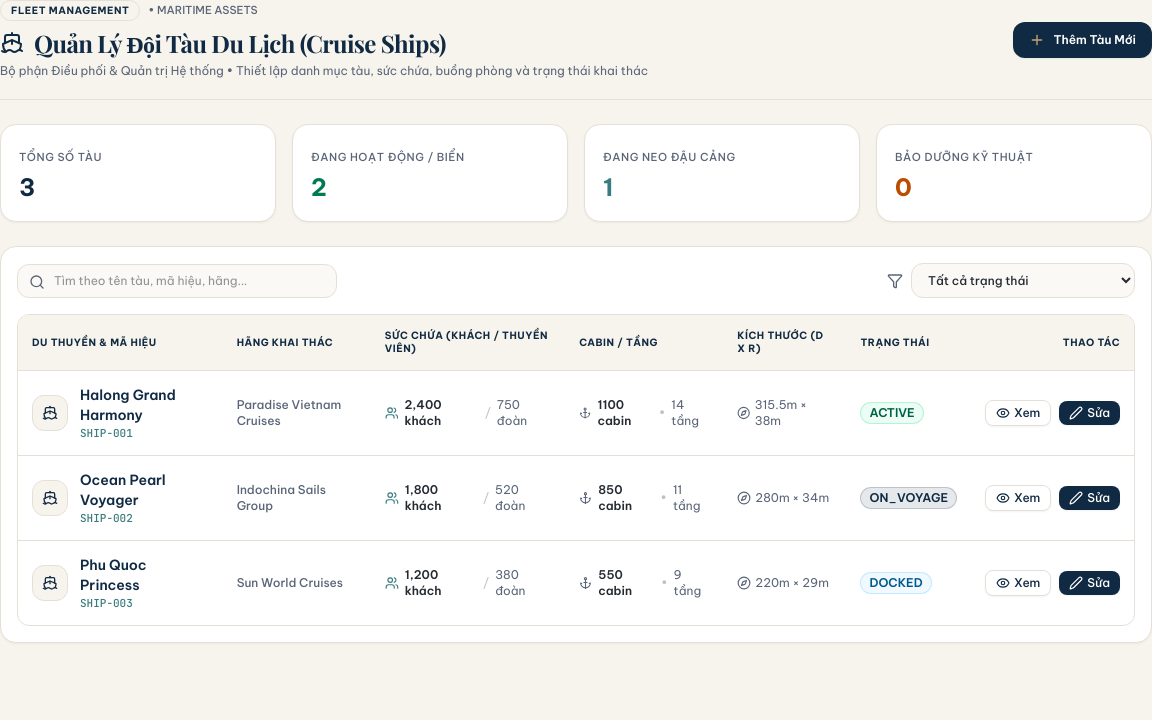
Scenario: ShipsPage Component Tests › edits a ship and allows closing modal with cancel button
Expected: the text "Halong Grand Harmony" is shown, [80,386,176,424]
Click the button with aria-label "Chỉnh sửa Halong Grand Harmony" at (1090, 413), box [1059,401,1120,425]
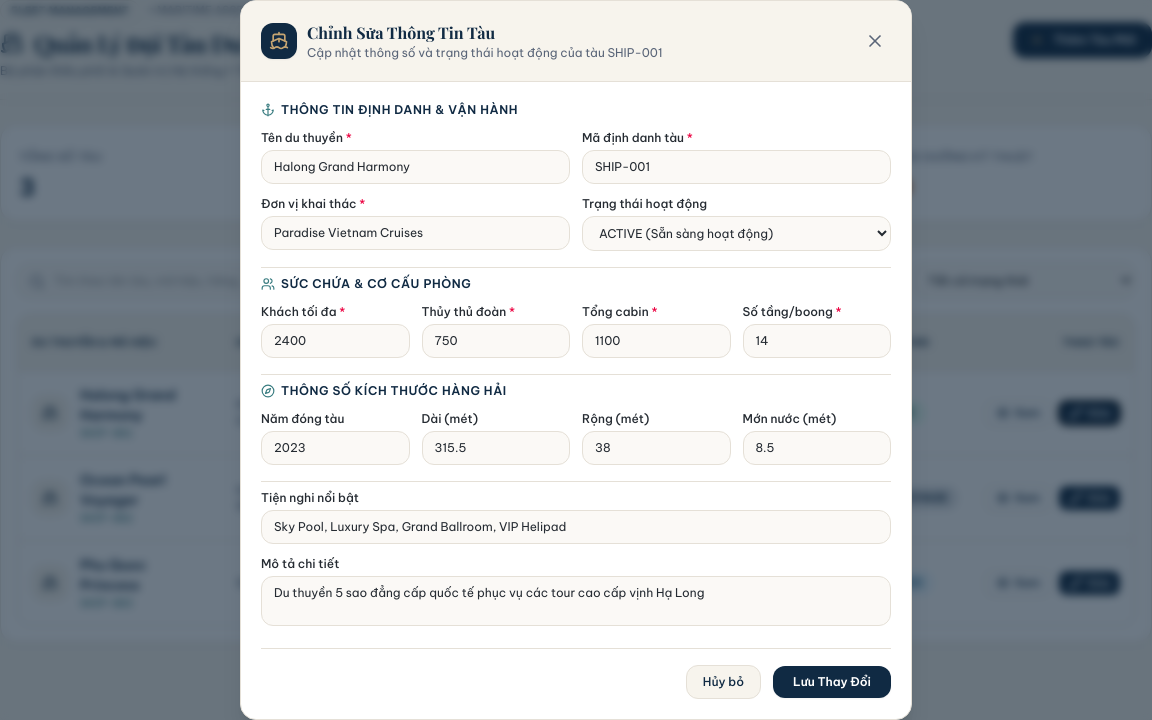
Replace the text in the field labelled "Tên du thuyền *" with "Halong Grand Harmony VIP" at (416, 167), box [261,150,570,184]
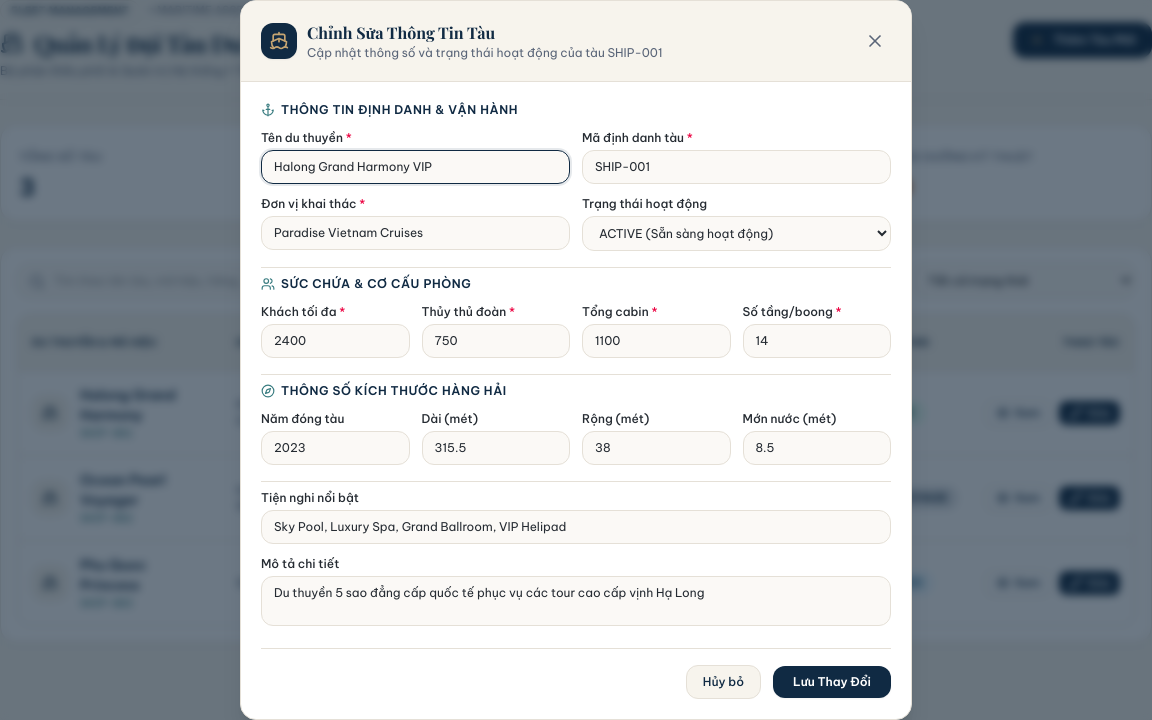
Click the button "Lưu Thay Đổi" at (832, 682), box [773,666,891,698]
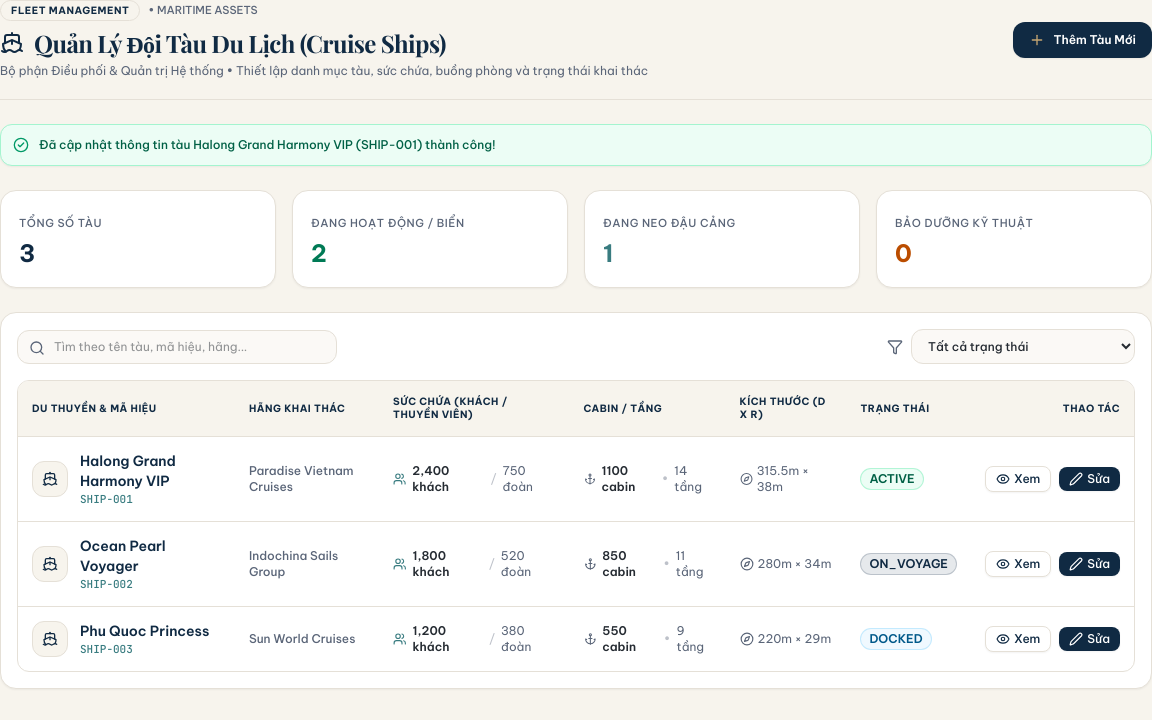
Expected: the text "Đã cập nhật thông tin tàu Halong Grand Harmony VIP" is shown, [39,137,496,152]
Expected: the text "Halong Grand Harmony VIP" is shown, [80,452,176,490]
Click the button "Thêm Tàu Mới" at (1083, 40), box [1014,22,1151,58]
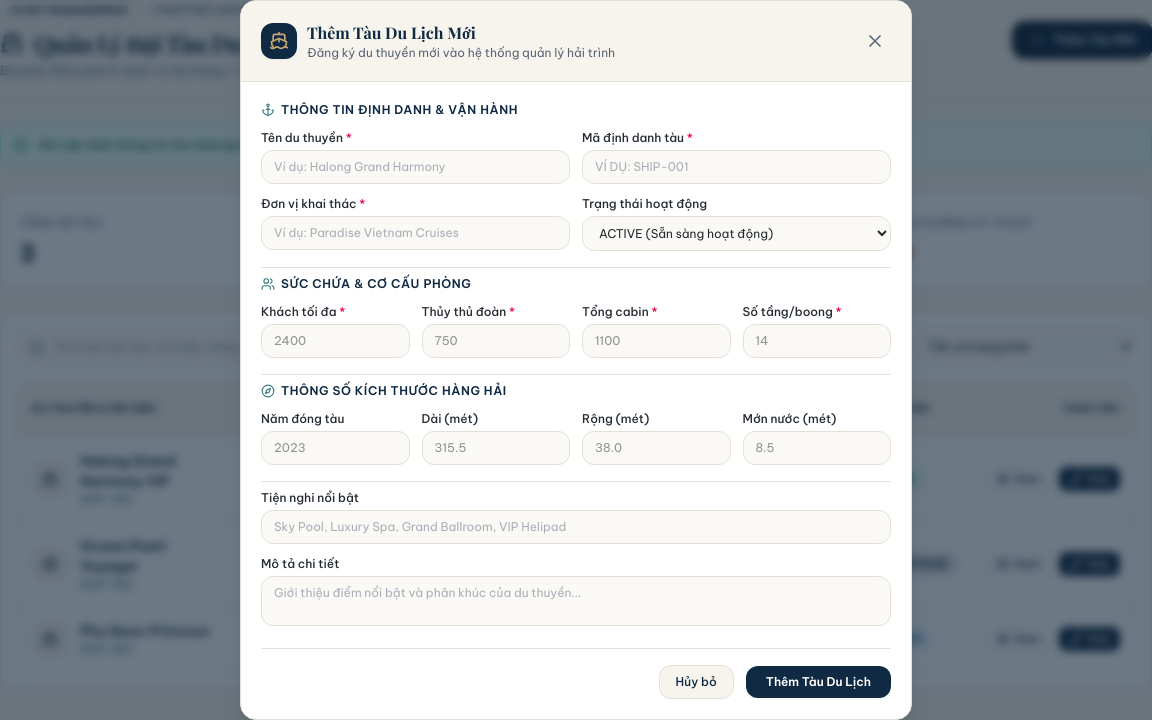
Expected: the dialog is shown
Click the button "Hủy bỏ" at (696, 682), box [658,665,734,699]
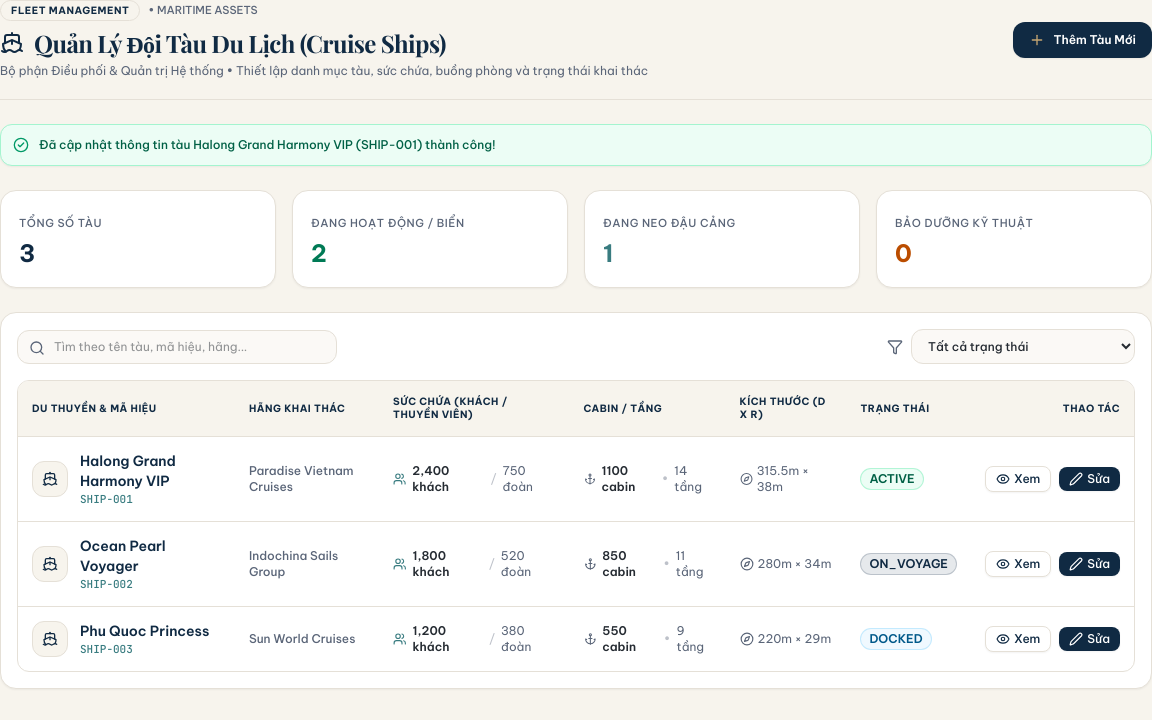
Expected: the dialog is gone
